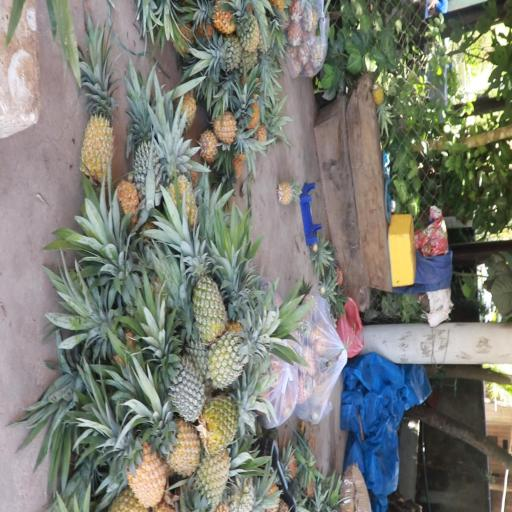------------------------------: (179, 238, 228, 337), (206, 316, 270, 388), (202, 383, 270, 445)
Pineapple - v8 v1: (85, 403, 167, 508), (137, 385, 202, 475), (78, 52, 120, 182), (159, 136, 201, 232), (192, 447, 234, 512), (211, 108, 261, 152)
